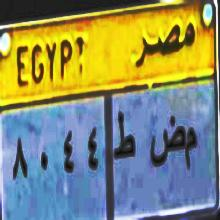0: (39, 149, 53, 173)
4: (85, 124, 102, 178), (61, 131, 75, 176)
8: (10, 135, 29, 187)
Taa: (112, 108, 136, 167)
daad: (148, 116, 186, 172)
meem: (186, 126, 201, 176)
